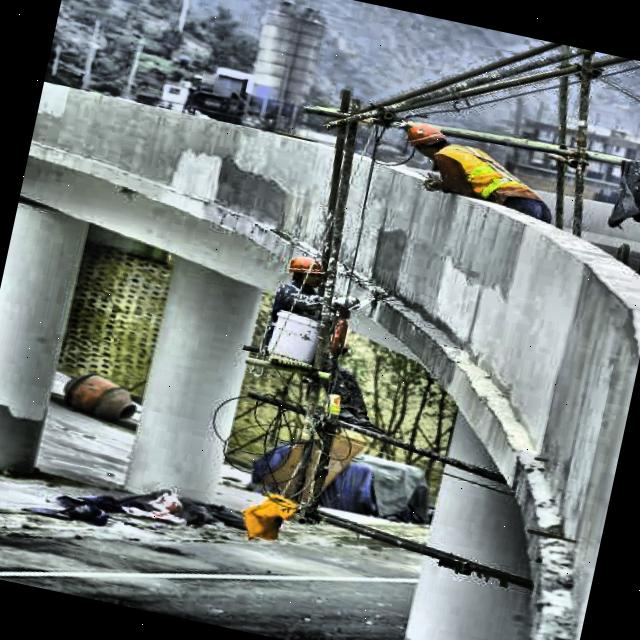helmet: (400, 117, 452, 162), (282, 250, 332, 296)
